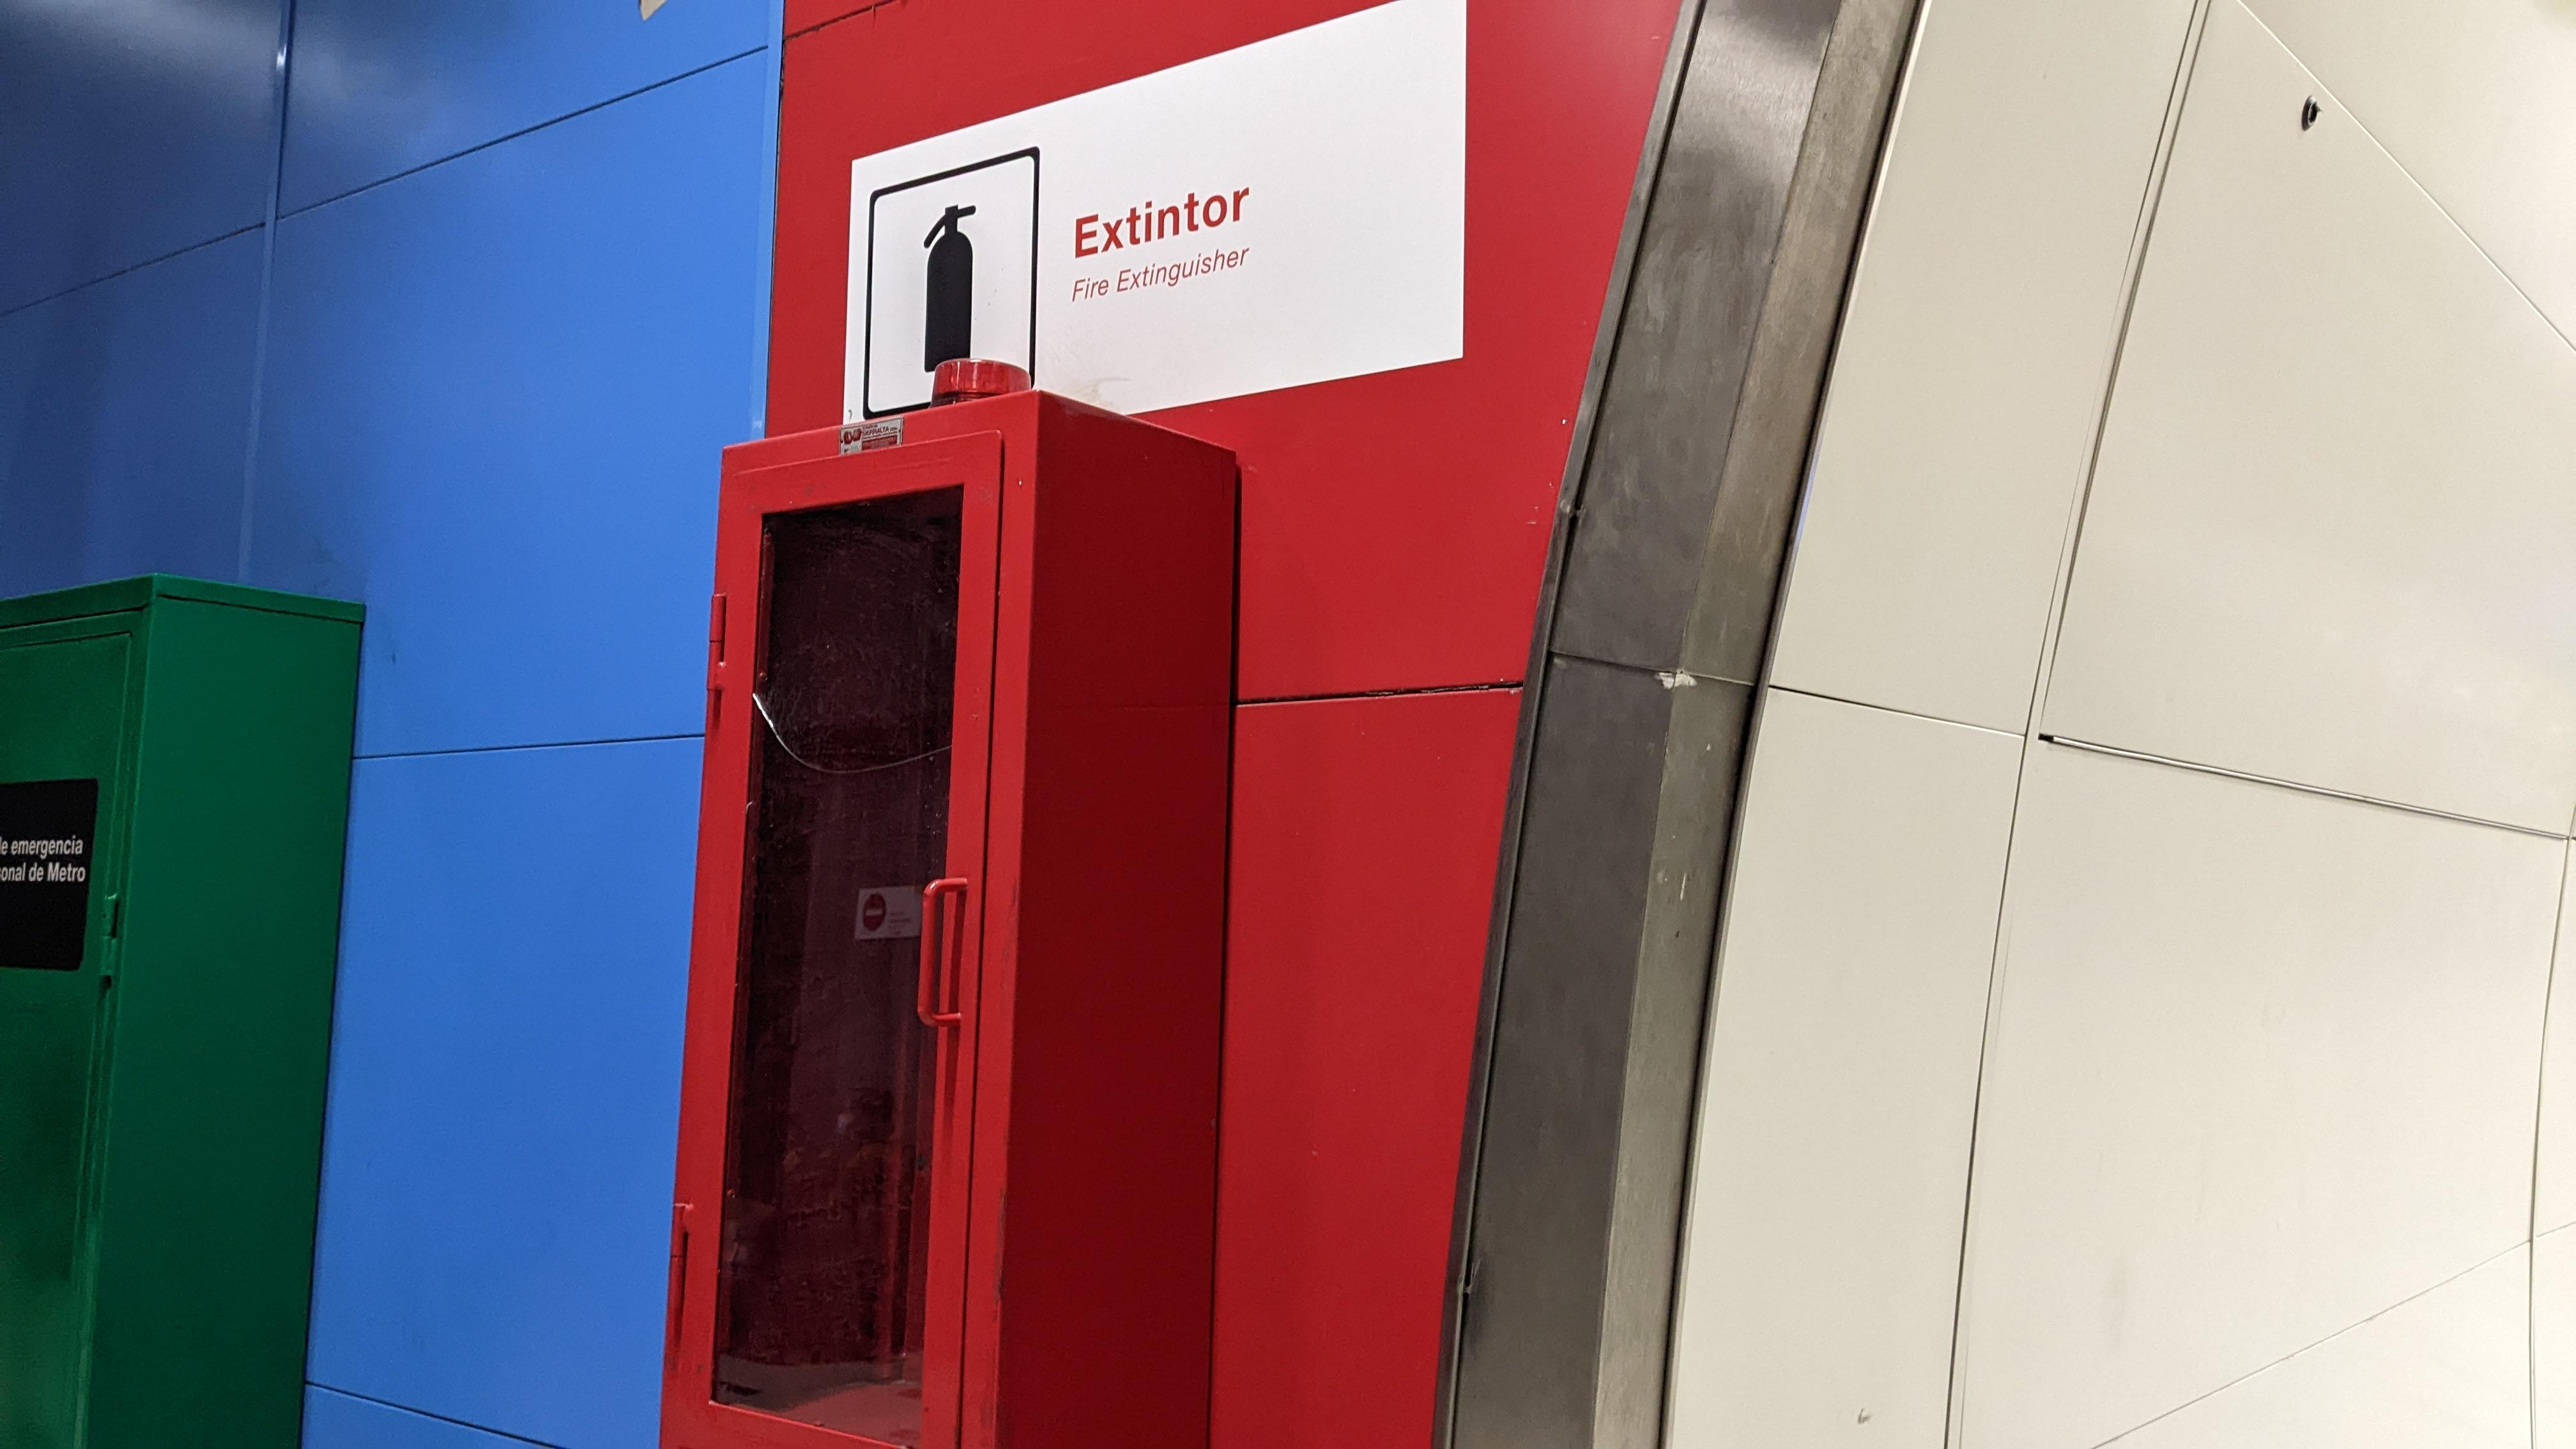extinguisher symbol: (916, 196, 982, 375)
